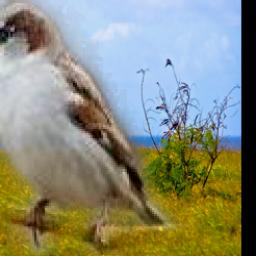Sparrow: (0, 1, 191, 256)
